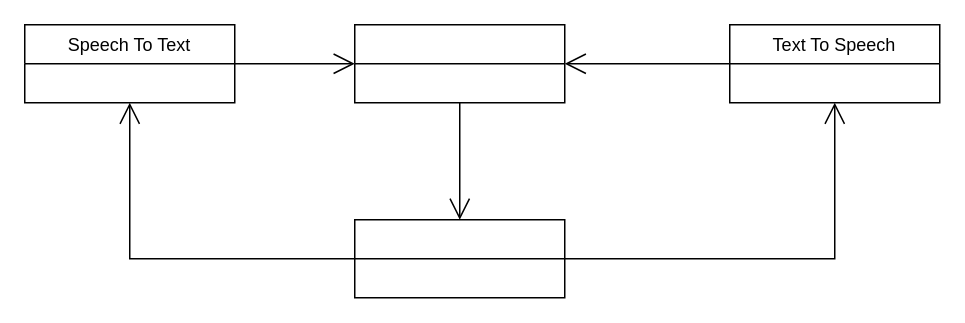
The diagram is 965 pixels wide and 323 high, and some of its shapes have lost their labels. Each missing label, with the centre of its shape:
ChatBot: the point at 459,63
UI: the point at 459,258
